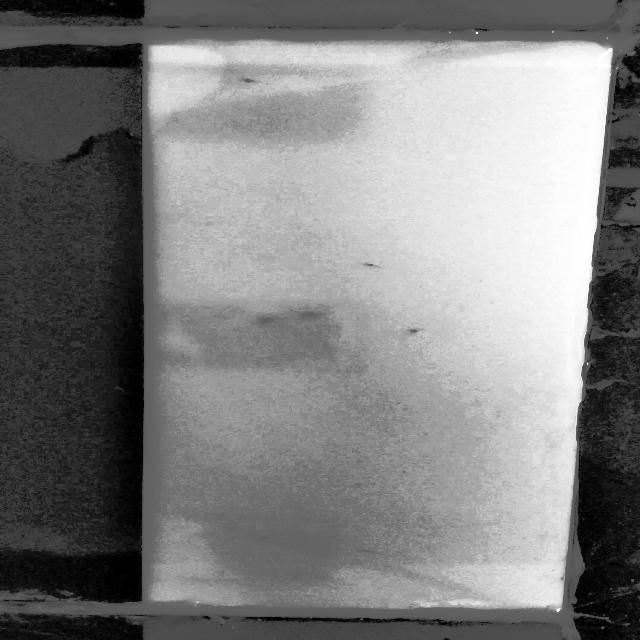shrimp: (299, 309, 324, 322), (361, 260, 390, 270), (239, 76, 264, 85), (255, 316, 272, 326), (354, 548, 380, 554), (254, 534, 275, 541), (405, 328, 426, 335)
